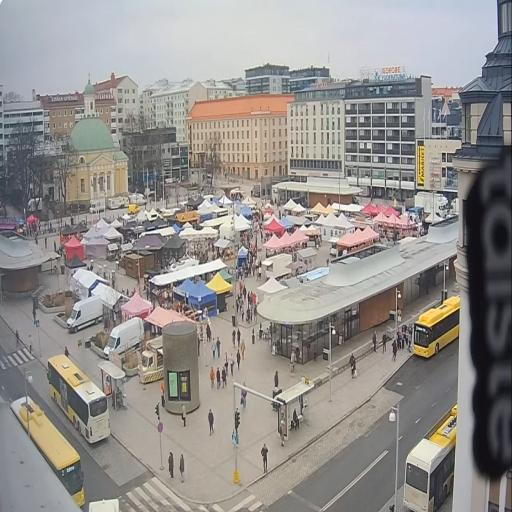bus: (11, 397, 85, 506), (404, 403, 457, 511), (47, 355, 110, 443), (414, 296, 460, 357)
delivery: (104, 317, 144, 359), (67, 297, 103, 332), (138, 336, 163, 383)
